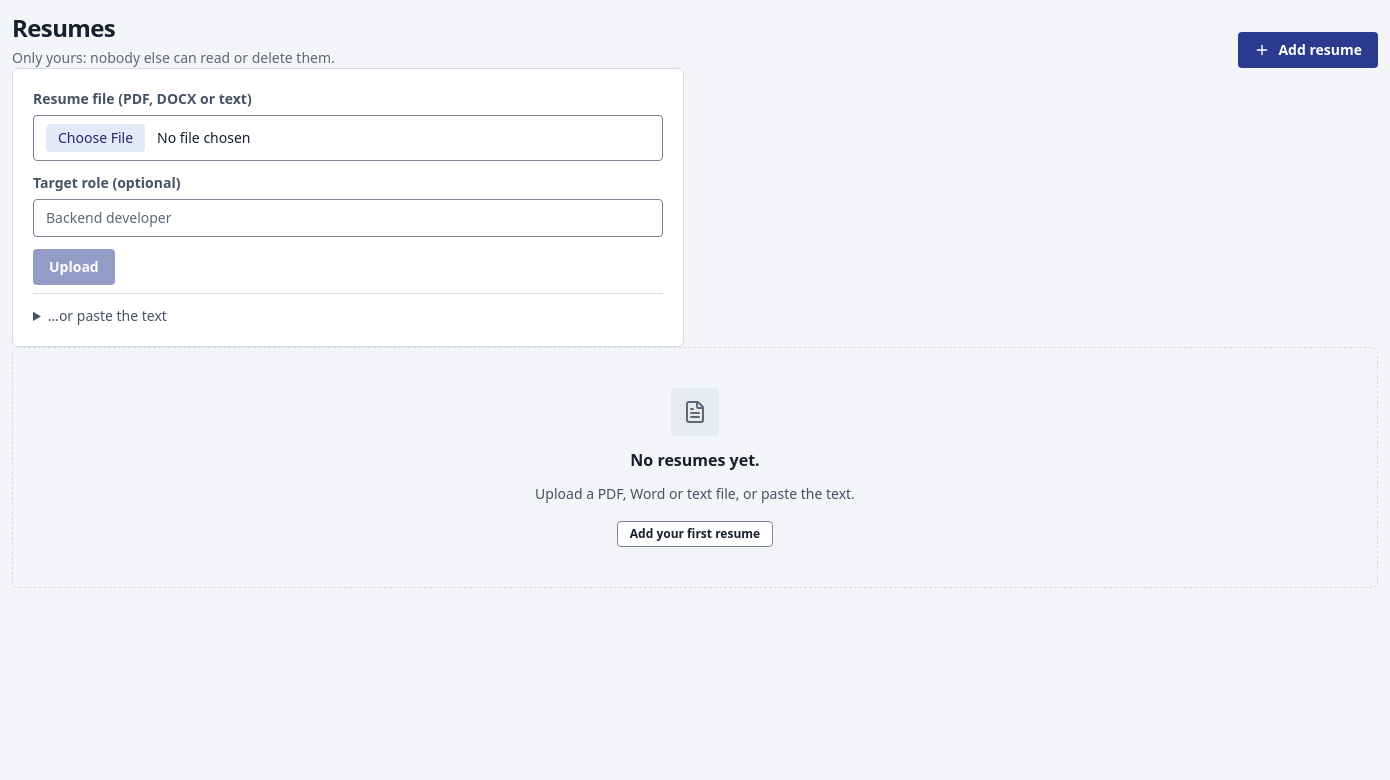
a stored resume appears in the list without a reload
Step 1. Click the heading "…or paste the text" → {"x": 107, "y": 316}, box [48, 306, 167, 325]
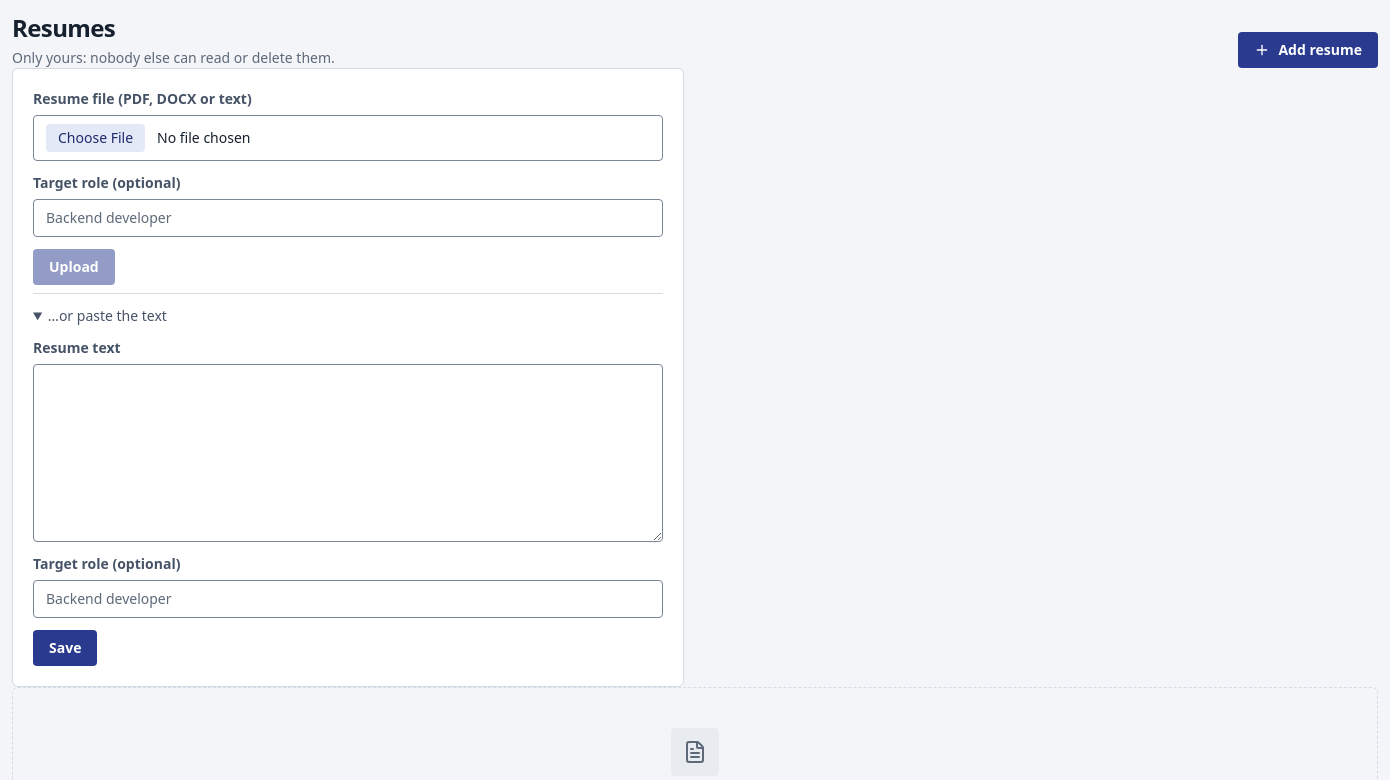
Step 2. Type "Ten years of Python." into the text box labelled "Resume text" → {"x": 348, "y": 453}, box [33, 364, 663, 542]
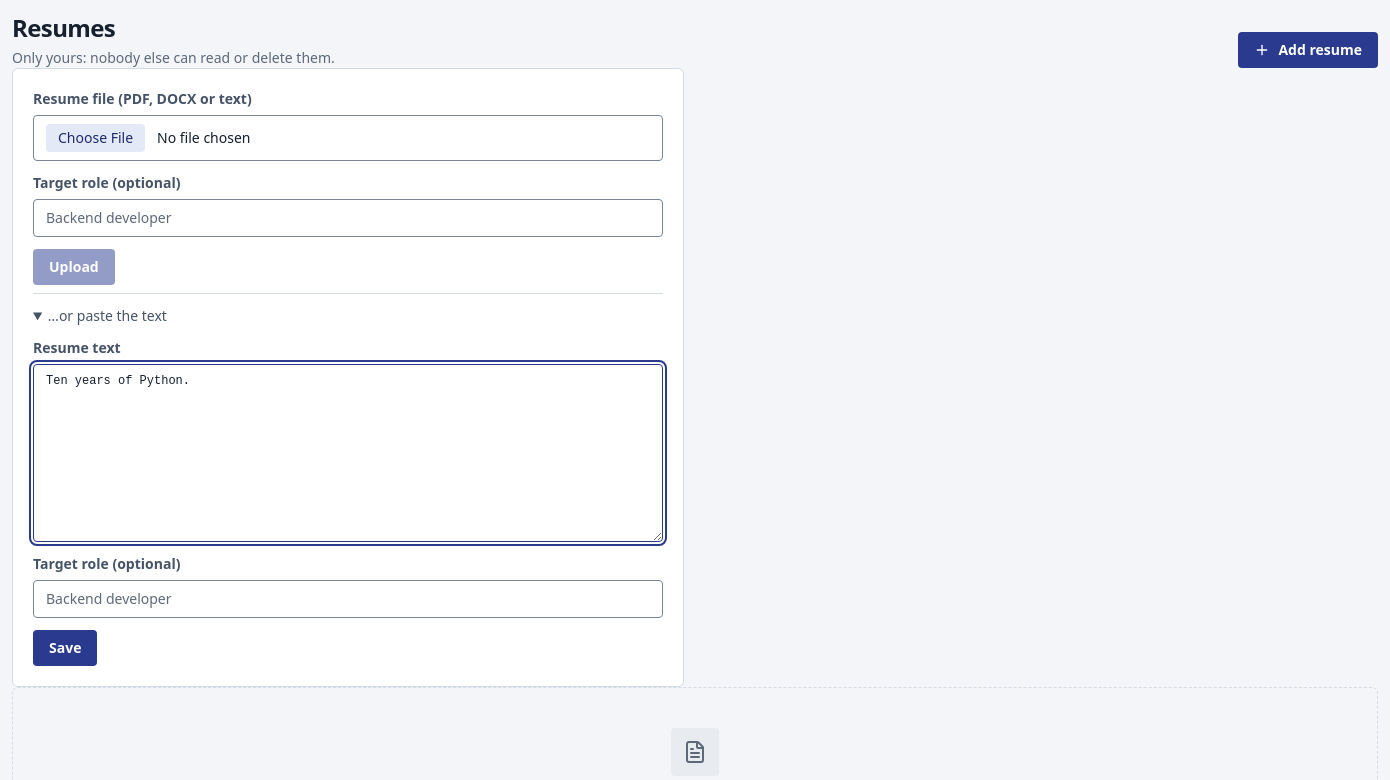
Step 3. Click the button "Save" → {"x": 65, "y": 648}, box [33, 630, 97, 666]
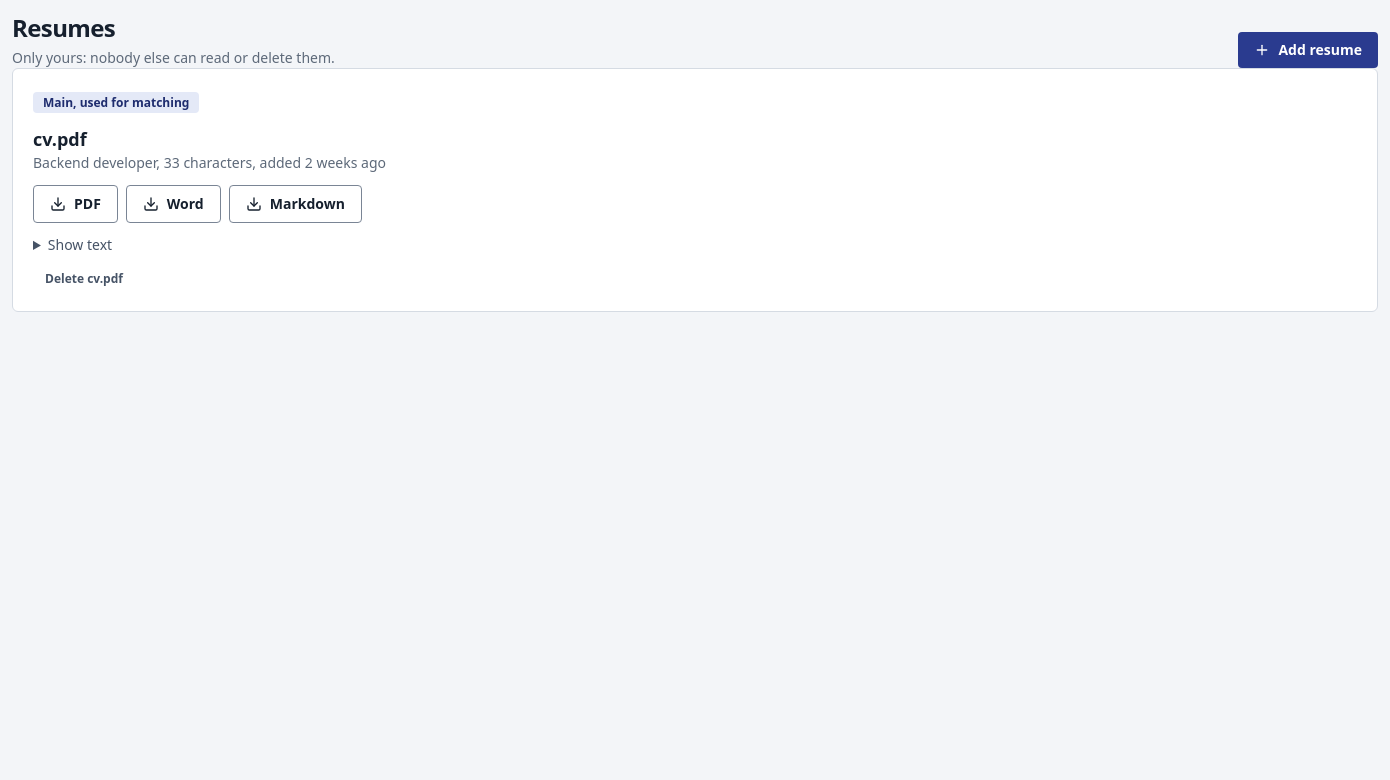
Result: the heading "cv.pdf" is shown at [33, 127, 87, 151]
